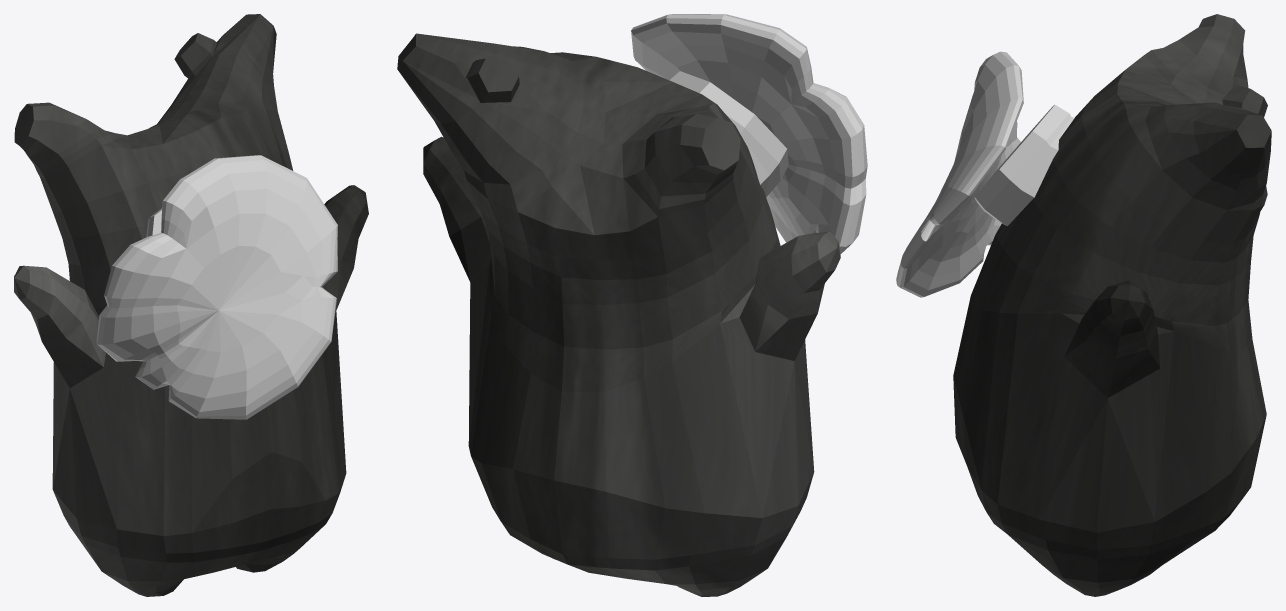
File: frame_0023.obj
3 views of the same model, side by side, from view 1: azimuth 30°, elevation 25°; view 2: azimuth 150°, elevation 25°; view 3: azimuth 270°, elevation 25° (orthographic). The views are drawn at different scales.
Parts seen in each view (by area): view 1: korok, leaf; view 2: korok, leaf, nose; view 3: korok, leaf, nose.
Boxes of the visible parts, x1=… form: korok: x1=14, y1=14, x2=368, y2=596; leaf: x1=96, y1=155, x2=337, y2=419; korok: x1=397, y1=33, x2=840, y2=596; leaf: x1=631, y1=14, x2=867, y2=254; nose: x1=669, y1=71, x2=788, y2=197; korok: x1=953, y1=14, x2=1271, y2=596; leaf: x1=896, y1=51, x2=1023, y2=297; nose: x1=974, y1=105, x2=1074, y2=225.
Size of the model in its own units: 1.6 by 2.11 by 1.39.
